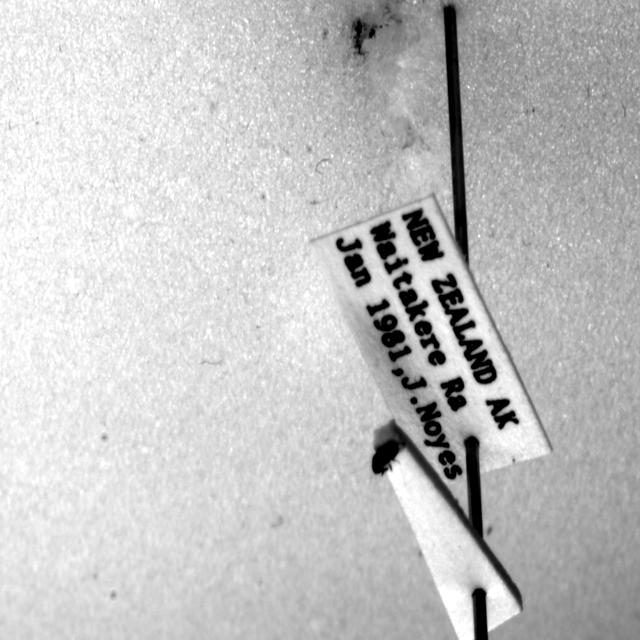typed_label: (311, 195, 551, 480)
